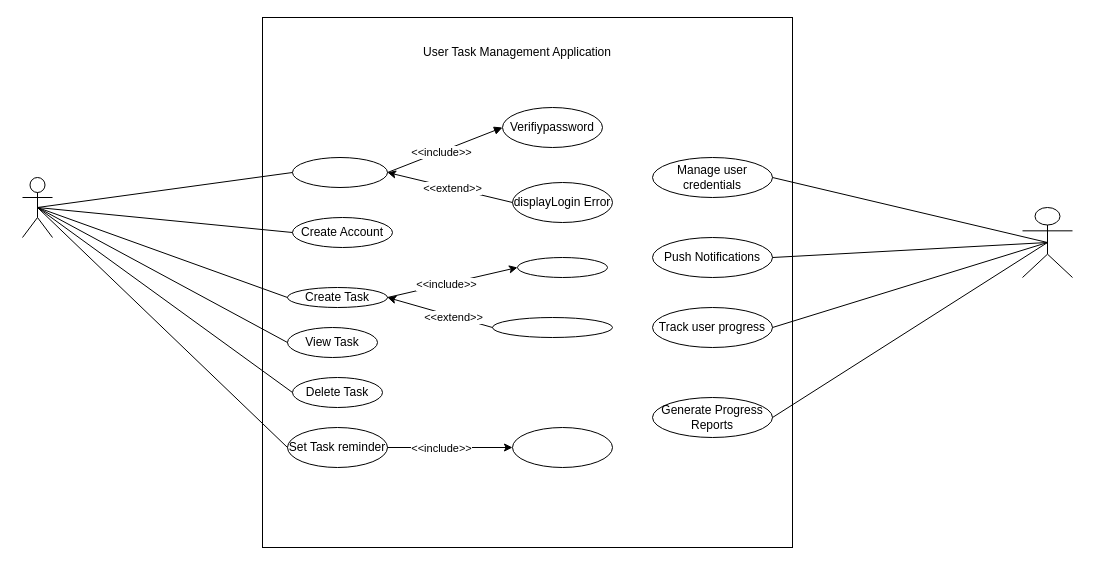
Some shapes in this 1103 by 565 pixel diagram are drawn without their labels. The shapes that lost their labels are listed below. From the top down, each one's centre as x and y in pixels, then its label:
point (340, 172): Login
point (37, 207): Student
point (1047, 242): System Admin
point (562, 267): Edit Task
point (552, 327): Assign Task priority
point (562, 447): customize reminder times
